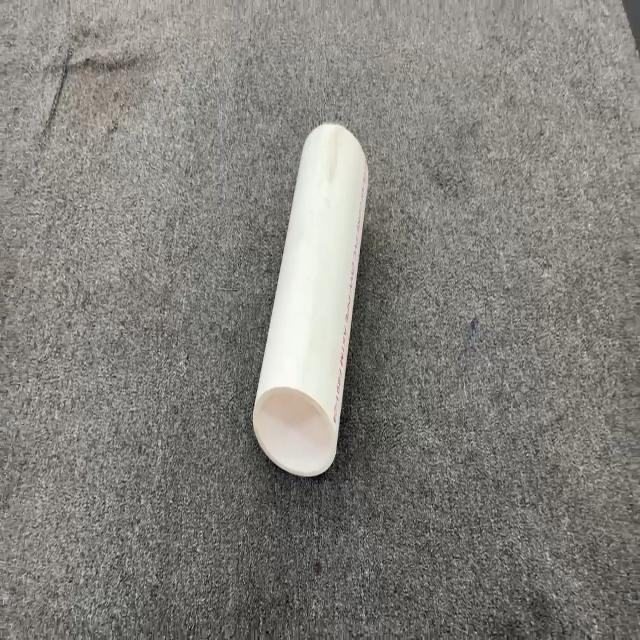coral: (251, 120, 369, 477)
